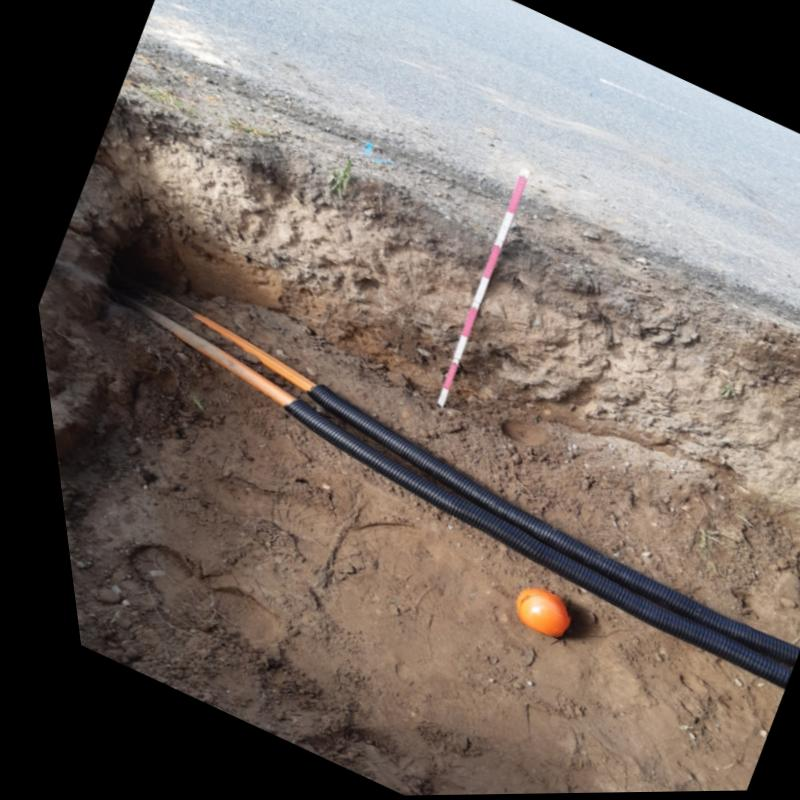Kugelmarker: (498, 589, 552, 637)
